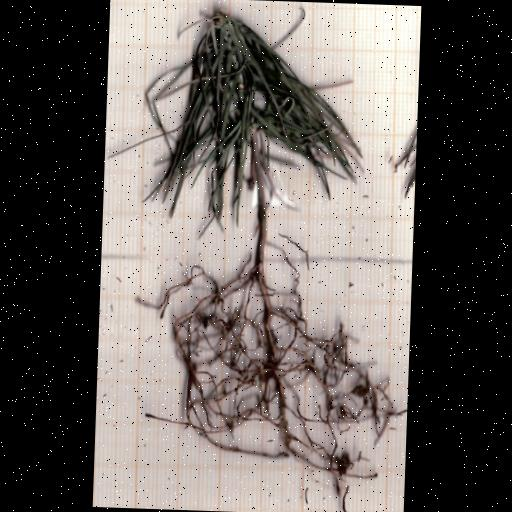flowerCedr: (144, 10, 360, 219)
rootCedr: (145, 243, 401, 494)
stemCedr: (255, 170, 266, 264), (251, 131, 257, 167)
